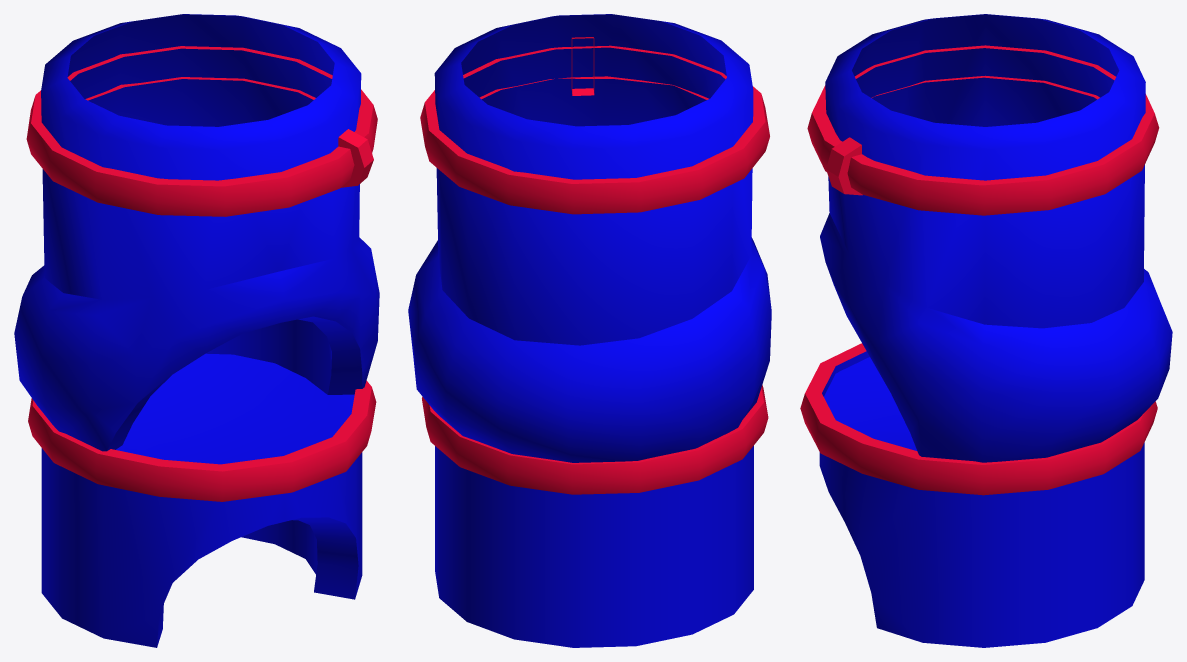
The model's file is CastingRoom_Oven.fbx.
The picture shows the model from 3 angles, left to right: view 1: azimuth 30°, elevation 25°; view 2: azimuth 150°, elevation 25°; view 3: azimuth 270°, elevation 25°; orthographic projection.
Visible parts, largest first — view 1: CastingRoom_Oven; view 2: CastingRoom_Oven; view 3: CastingRoom_Oven.
Boxes of the visible parts, x1,y1,x2,y2 form: CastingRoom_Oven: (14, 14, 379, 647); CastingRoom_Oven: (408, 14, 771, 647); CastingRoom_Oven: (800, 14, 1172, 647).
Bounding box in the file's own units: 690 × 1051 × 696.
